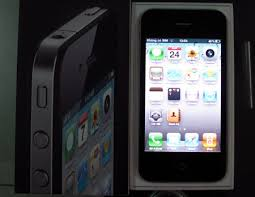iphone: (134, 5, 231, 184)
iphone4: (136, 5, 233, 184)
